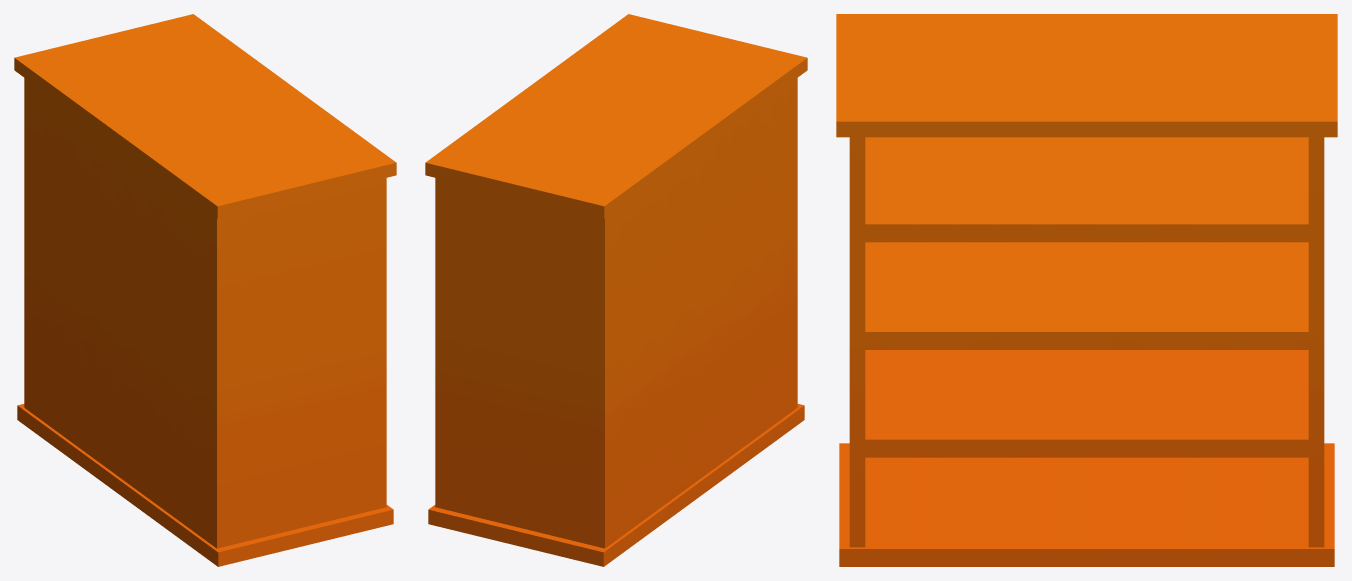
Rendered from estante.fbx.
3 renders of one model, left to right at view 1: azimuth 30°, elevation 25°; view 2: azimuth 150°, elevation 25°; view 3: azimuth 270°, elevation 25°, orthographic. The views are drawn at different scales.
Visible parts, largest first — view 1: Cube; view 2: Cube; view 3: Cube.
Part boxes in pixels (bbox=[...]): Cube: bbox=[14, 14, 396, 566]; Cube: bbox=[425, 14, 807, 566]; Cube: bbox=[836, 14, 1337, 566].
Size of the model in its own units: 258 by 497 by 506.
